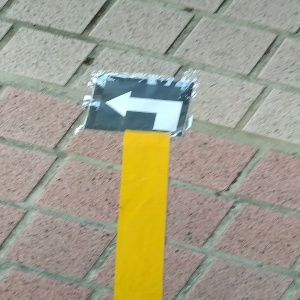left: (83, 71, 192, 134)
